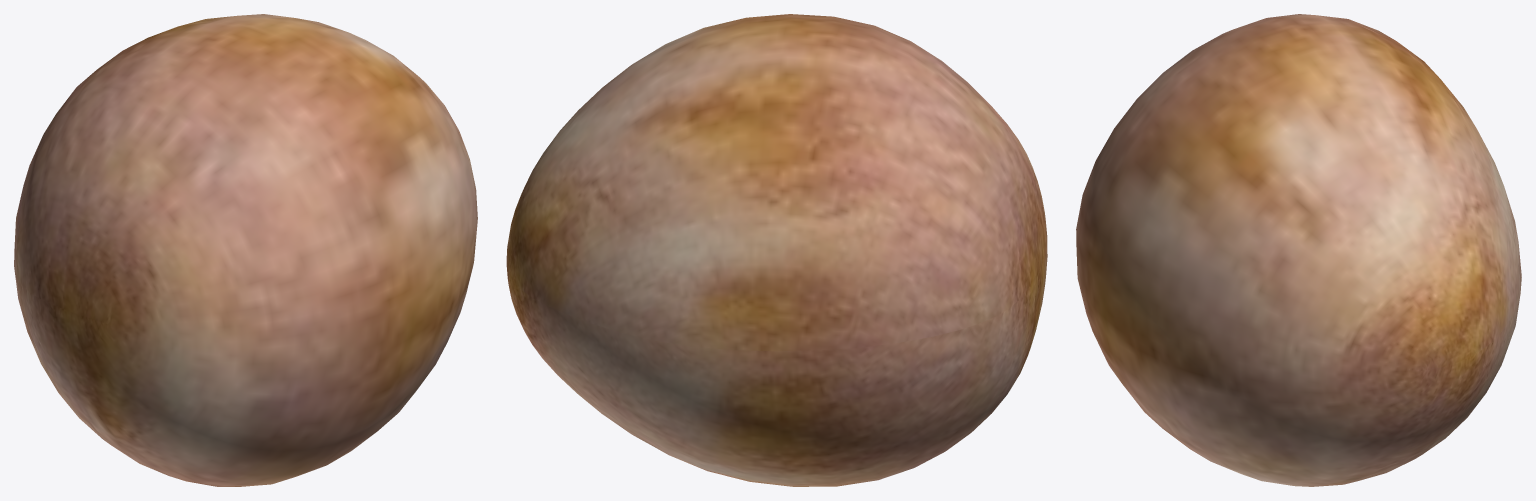
The model's file is GreenAvocadoSeed.obj.
3 renders of one model, left to right at view 1: azimuth 30°, elevation 25°; view 2: azimuth 150°, elevation 25°; view 3: azimuth 270°, elevation 25°, orthographic. The views are drawn at different scales.
Parts seen in each view (by area): view 1: GreenAvocadoSeed; view 2: GreenAvocadoSeed; view 3: GreenAvocadoSeed.
Part boxes in pixels (x1,y1,x2,y2): GreenAvocadoSeed: (14, 14, 477, 486); GreenAvocadoSeed: (506, 14, 1047, 486); GreenAvocadoSeed: (1076, 14, 1521, 486).
Size of the model in its own units: 0.0389 by 0.0361 by 0.0347.
1 material, 1 textured.
